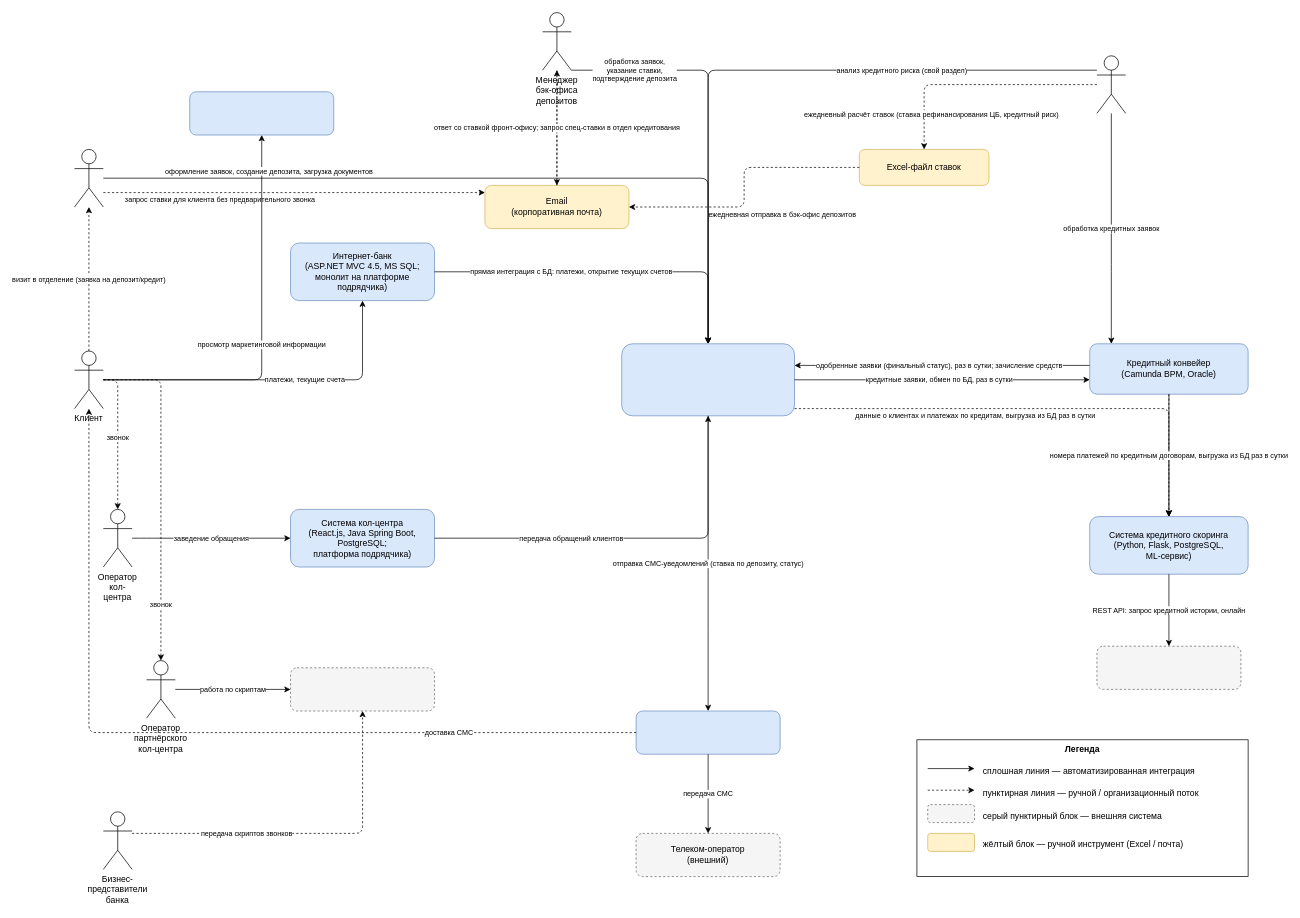
Some shapes in this 1300 by 918 pixel diagram are drawn without their labels. The shapes that lost their labels are listed below. From the top down, each one's centre as x and y in pixels, then its label:
At (x=1111, y=84): "Менеджер отдела кредитования".
At (x=261, y=113): "Сайт (PHP, React.js)".
At (x=88, y=178): "Сотрудник отделения (фронт-офис)".
At (x=708, y=379): "АБС (Delphi-клиент, Oracle, PL/SQL)".
At (x=1168, y=667): "Бюро кредитных историй (внешняя, REST API)".
At (x=362, y=689): "Система партнёрского кол-центра (внешняя)".
At (x=707, y=732): "СМС-шлюз телеком-оператора".
